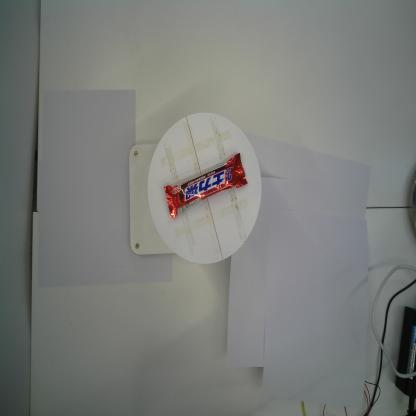Chocolate: (164, 153, 248, 219)
